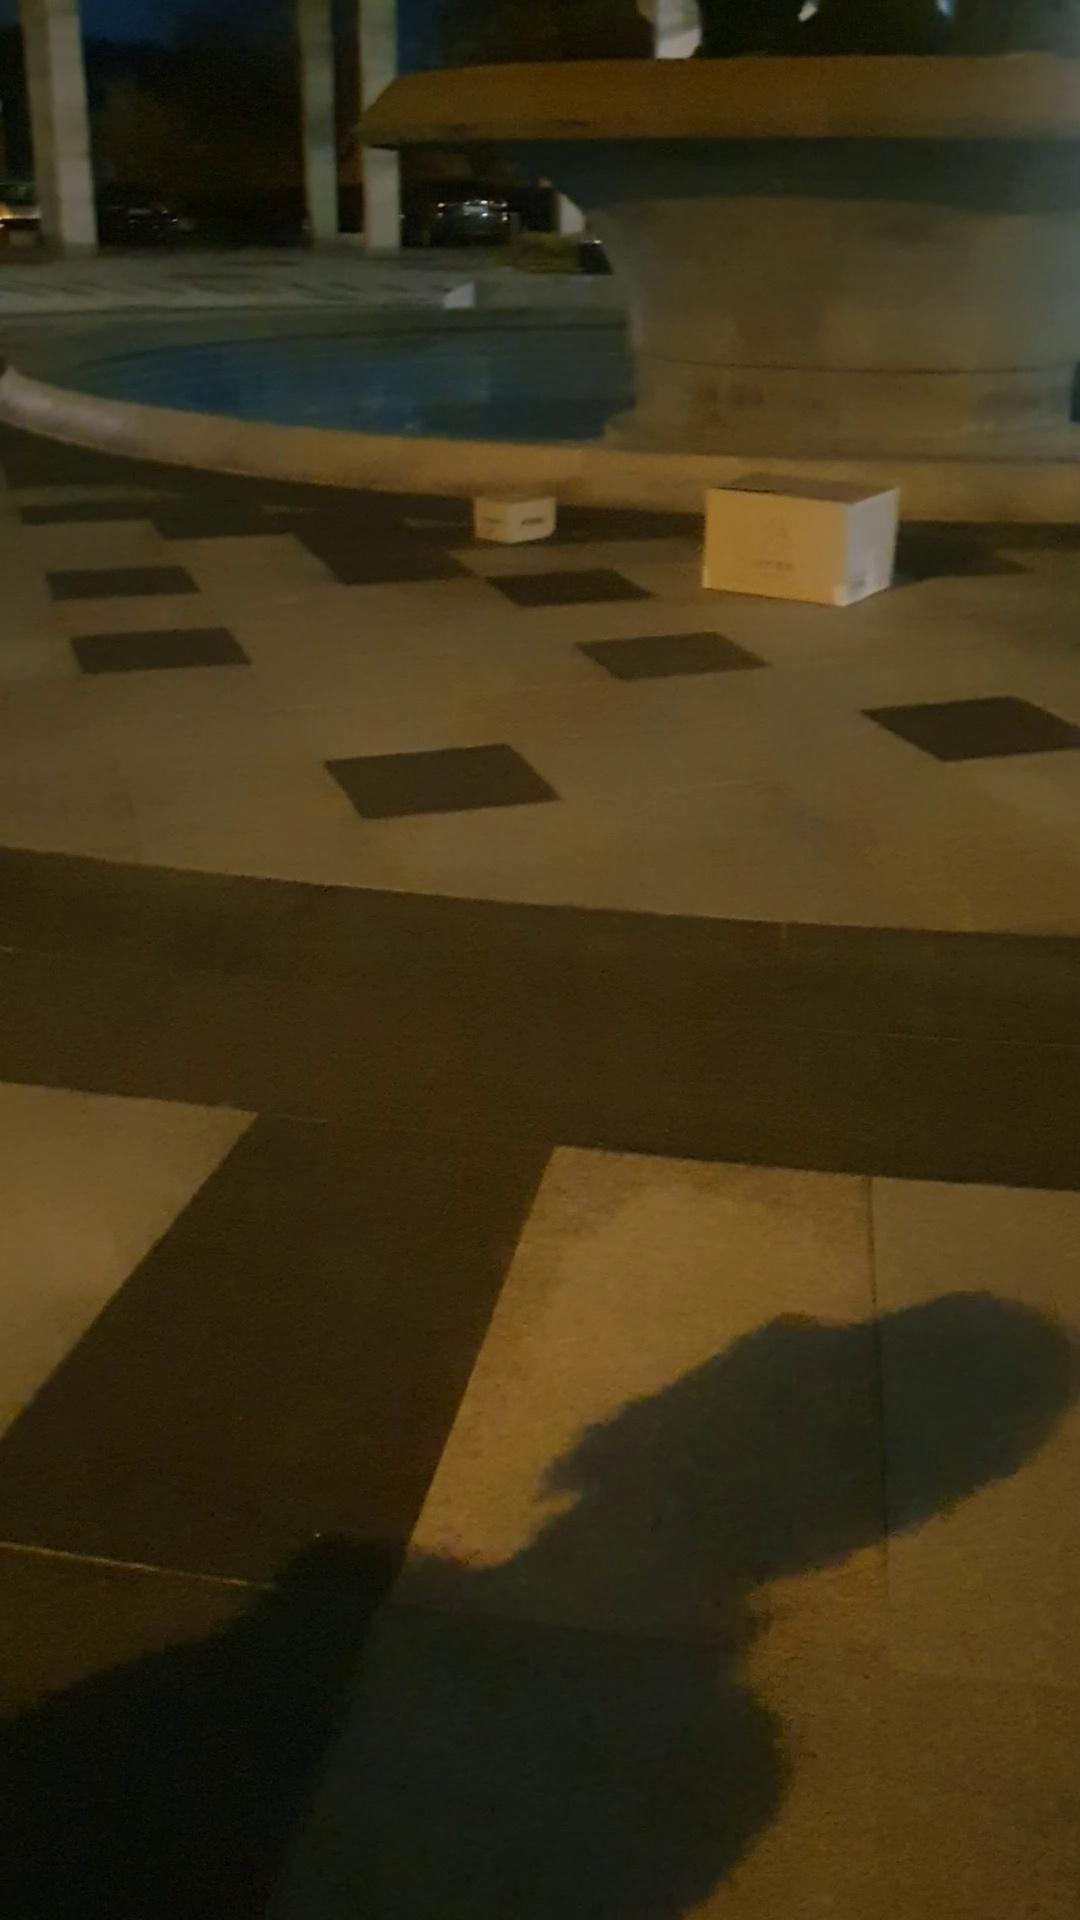Box: (698, 469, 905, 622), (465, 468, 558, 541)
